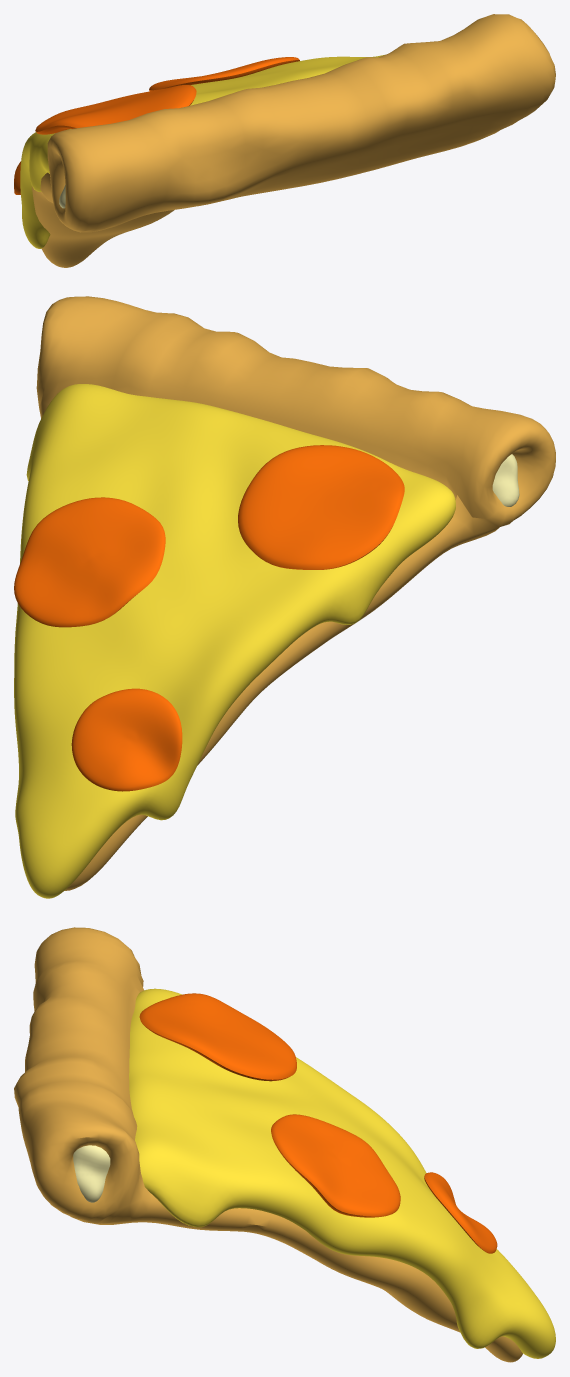
File: pizza.glb
The picture shows the model from 3 angles, top to bottom: view 1: azimuth 30°, elevation 25°; view 2: azimuth 150°, elevation 25°; view 3: azimuth 270°, elevation 25°; orthographic projection. The views are drawn at different scales.
Visible parts, largest first — view 1: BREAD, CHEESE_2, PEPPERONI, PEPPERONI_2; view 2: CHEESE_2, BREAD, PEPPERONI, PEPPERONI_2, PEPPERONI_3, CHEESE; view 3: CHEESE_2, BREAD, PEPPERONI_2, PEPPERONI, PEPPERONI_3, CHEESE.
Part boxes in pixels (<box>): BREAD: <box>32,14,555,267</box>; CHEESE_2: <box>20,55,384,248</box>; PEPPERONI: <box>35,85,196,134</box>; PEPPERONI_2: <box>149,57,299,91</box>; CHEESE_2: <box>14,384,455,898</box>; BREAD: <box>36,296,555,890</box>; PEPPERONI: <box>238,445,404,569</box>; PEPPERONI_2: <box>14,497,165,627</box>; PEPPERONI_3: <box>71,688,182,791</box>; CHEESE: <box>492,454,519,506</box>; CHEESE_2: <box>129,988,555,1358</box>; BREAD: <box>14,927,522,1362</box>; PEPPERONI_2: <box>271,1114,400,1217</box>; PEPPERONI: <box>139,993,296,1081</box>; PEPPERONI_3: <box>424,1172,497,1253</box>; CHEESE: <box>73,1145,110,1202</box>.
Bounding box in the file's own units: 1.06 × 0.7406 × 1.06.
